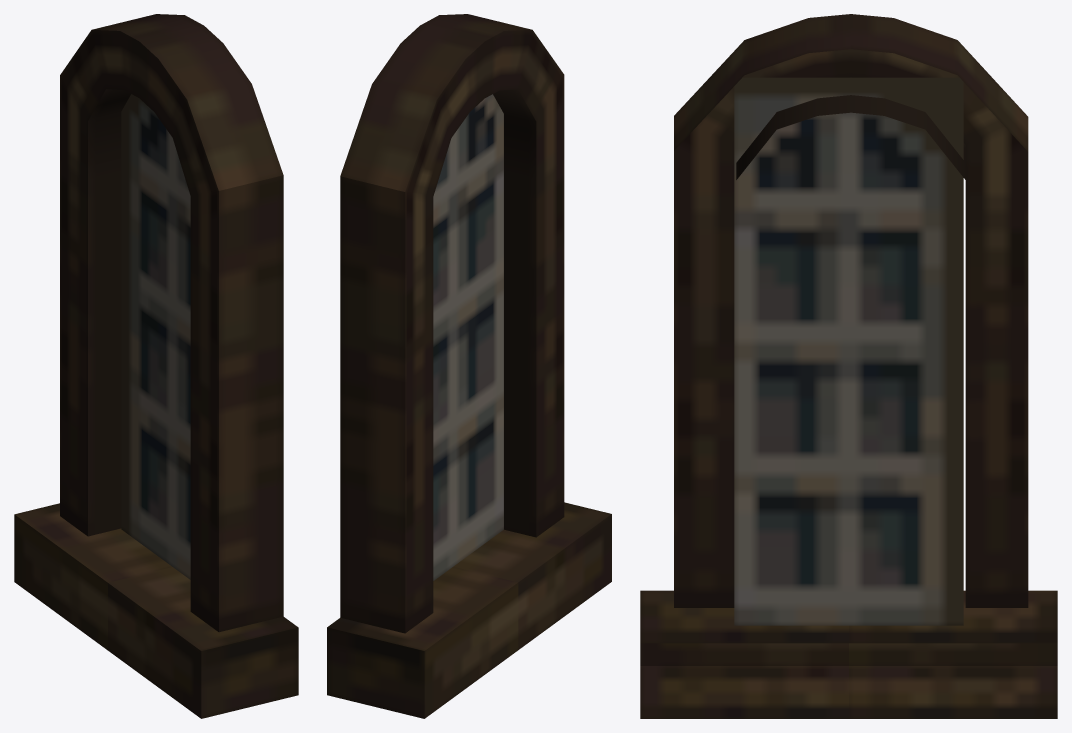
Rendered from EnvBdgMD_Snow_Mansion_A_Indoor_Window_C.FBX.
3 renders of one model, left to right at view 1: azimuth 30°, elevation 25°; view 2: azimuth 150°, elevation 25°; view 3: azimuth 270°, elevation 25°, orthographic. The views are drawn at different scales.
Parts seen in each view (by area): view 1: EnvBdgMD_Snow_Mansion_A_Indoor_Window_C; view 2: EnvBdgMD_Snow_Mansion_A_Indoor_Window_C; view 3: EnvBdgMD_Snow_Mansion_A_Indoor_Window_C.
Part boxes in pixels (left/top/right/bottom): EnvBdgMD_Snow_Mansion_A_Indoor_Window_C: left=14, top=14, right=298, bottom=718; EnvBdgMD_Snow_Mansion_A_Indoor_Window_C: left=327, top=14, right=611, bottom=718; EnvBdgMD_Snow_Mansion_A_Indoor_Window_C: left=640, top=14, right=1057, bottom=718.
Size of the model in its own units: 30 by 177 by 100.
1 material, 1 textured.
